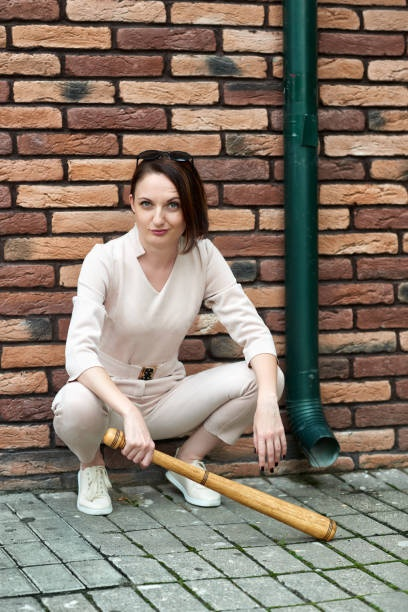bita: (111, 436, 340, 531)
